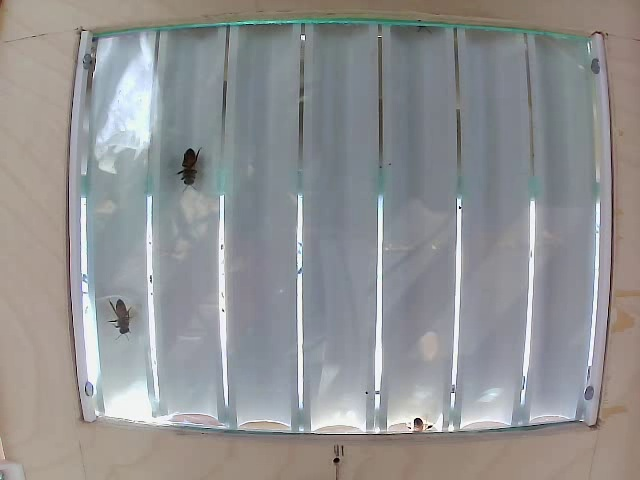bee: (172, 142, 208, 197), (102, 293, 139, 341)
